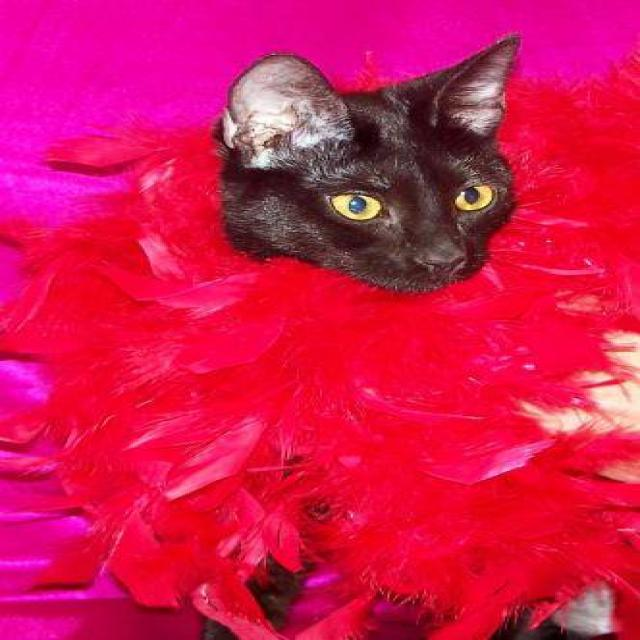cat: (210, 32, 523, 294)
